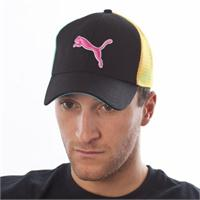hat: (44, 10, 153, 110)
